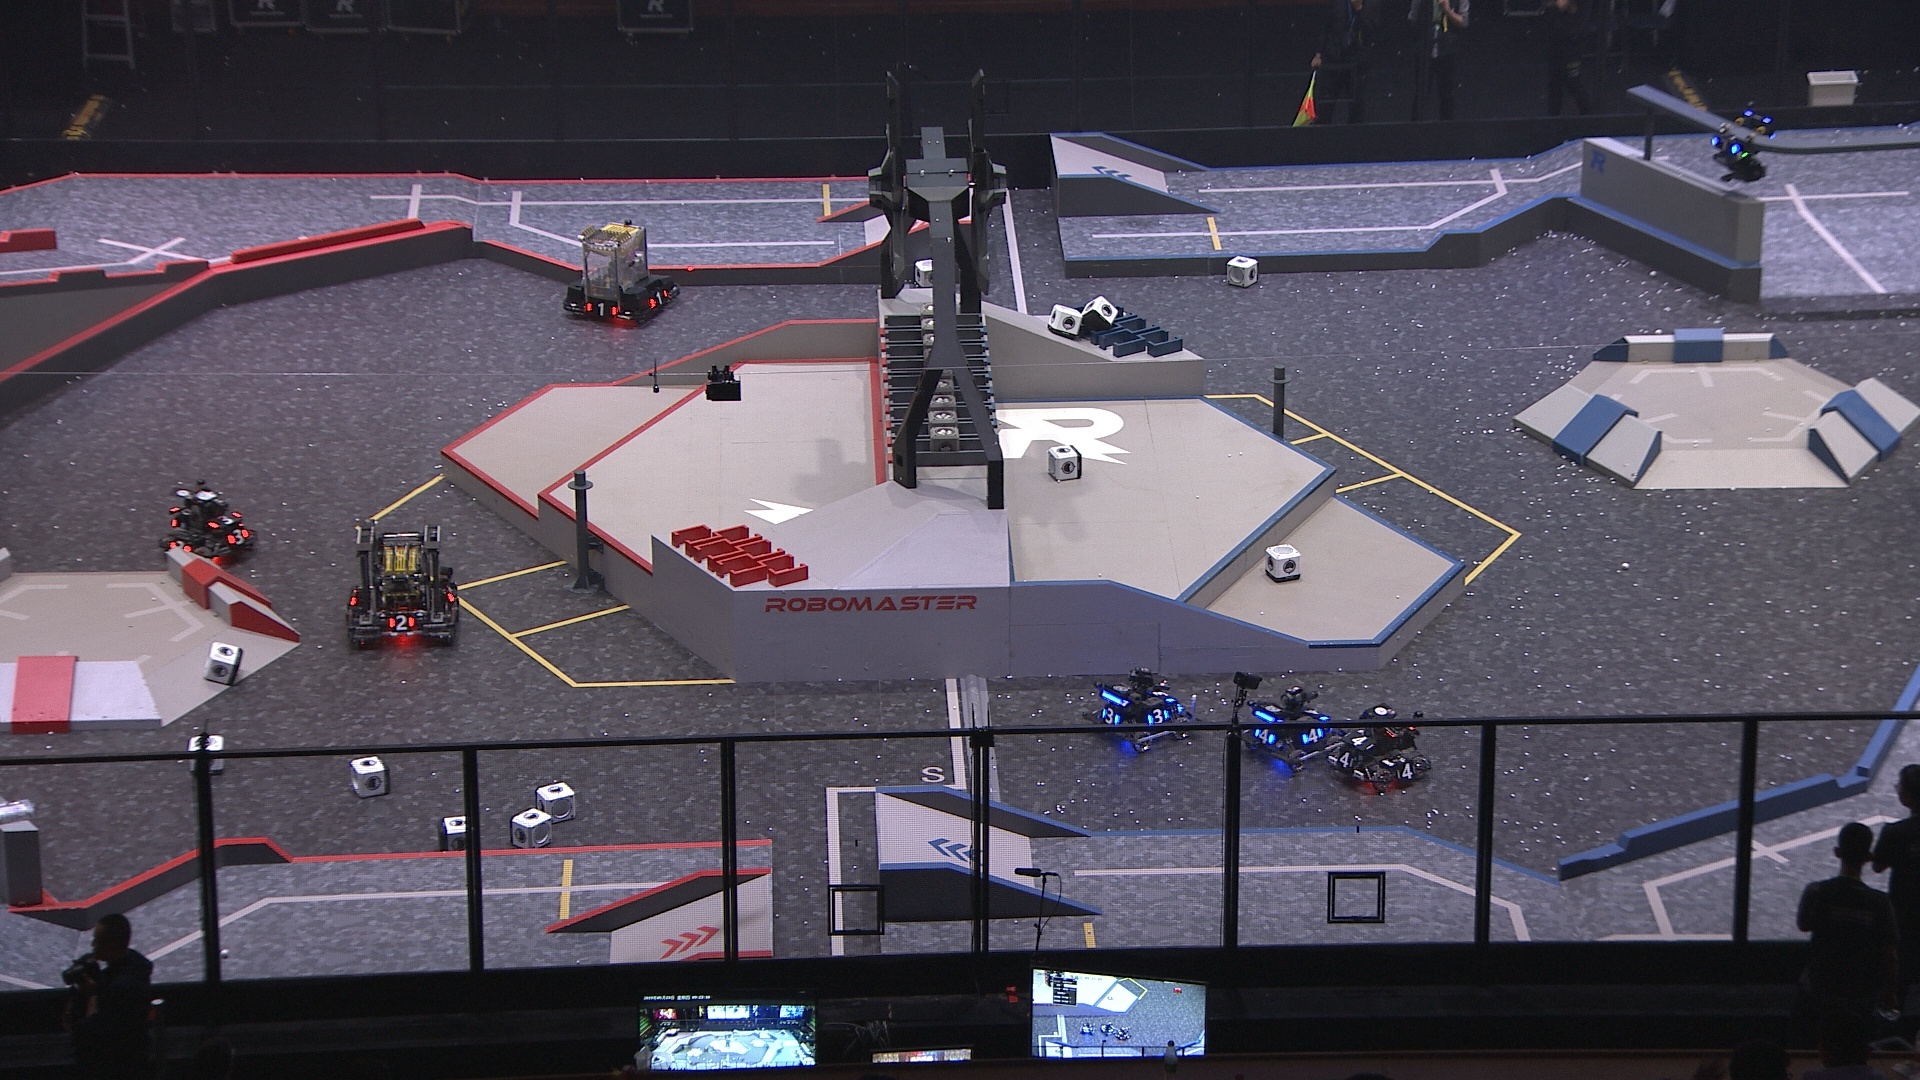armor: (1328, 749, 1358, 773), (1342, 731, 1373, 752), (1712, 135, 1737, 160), (584, 301, 618, 318), (386, 613, 415, 632), (225, 526, 248, 549), (1097, 704, 1120, 727), (208, 510, 237, 527), (167, 541, 195, 556), (1299, 727, 1325, 742), (650, 290, 670, 311), (1395, 764, 1418, 782), (1145, 705, 1168, 723), (1153, 684, 1172, 703), (1254, 727, 1276, 742), (1304, 704, 1328, 717)
car: (344, 517, 462, 644), (566, 215, 670, 327), (1087, 665, 1200, 749), (1325, 705, 1433, 793), (156, 483, 256, 566), (1244, 684, 1340, 766)
watcher: (1706, 111, 1779, 183)
